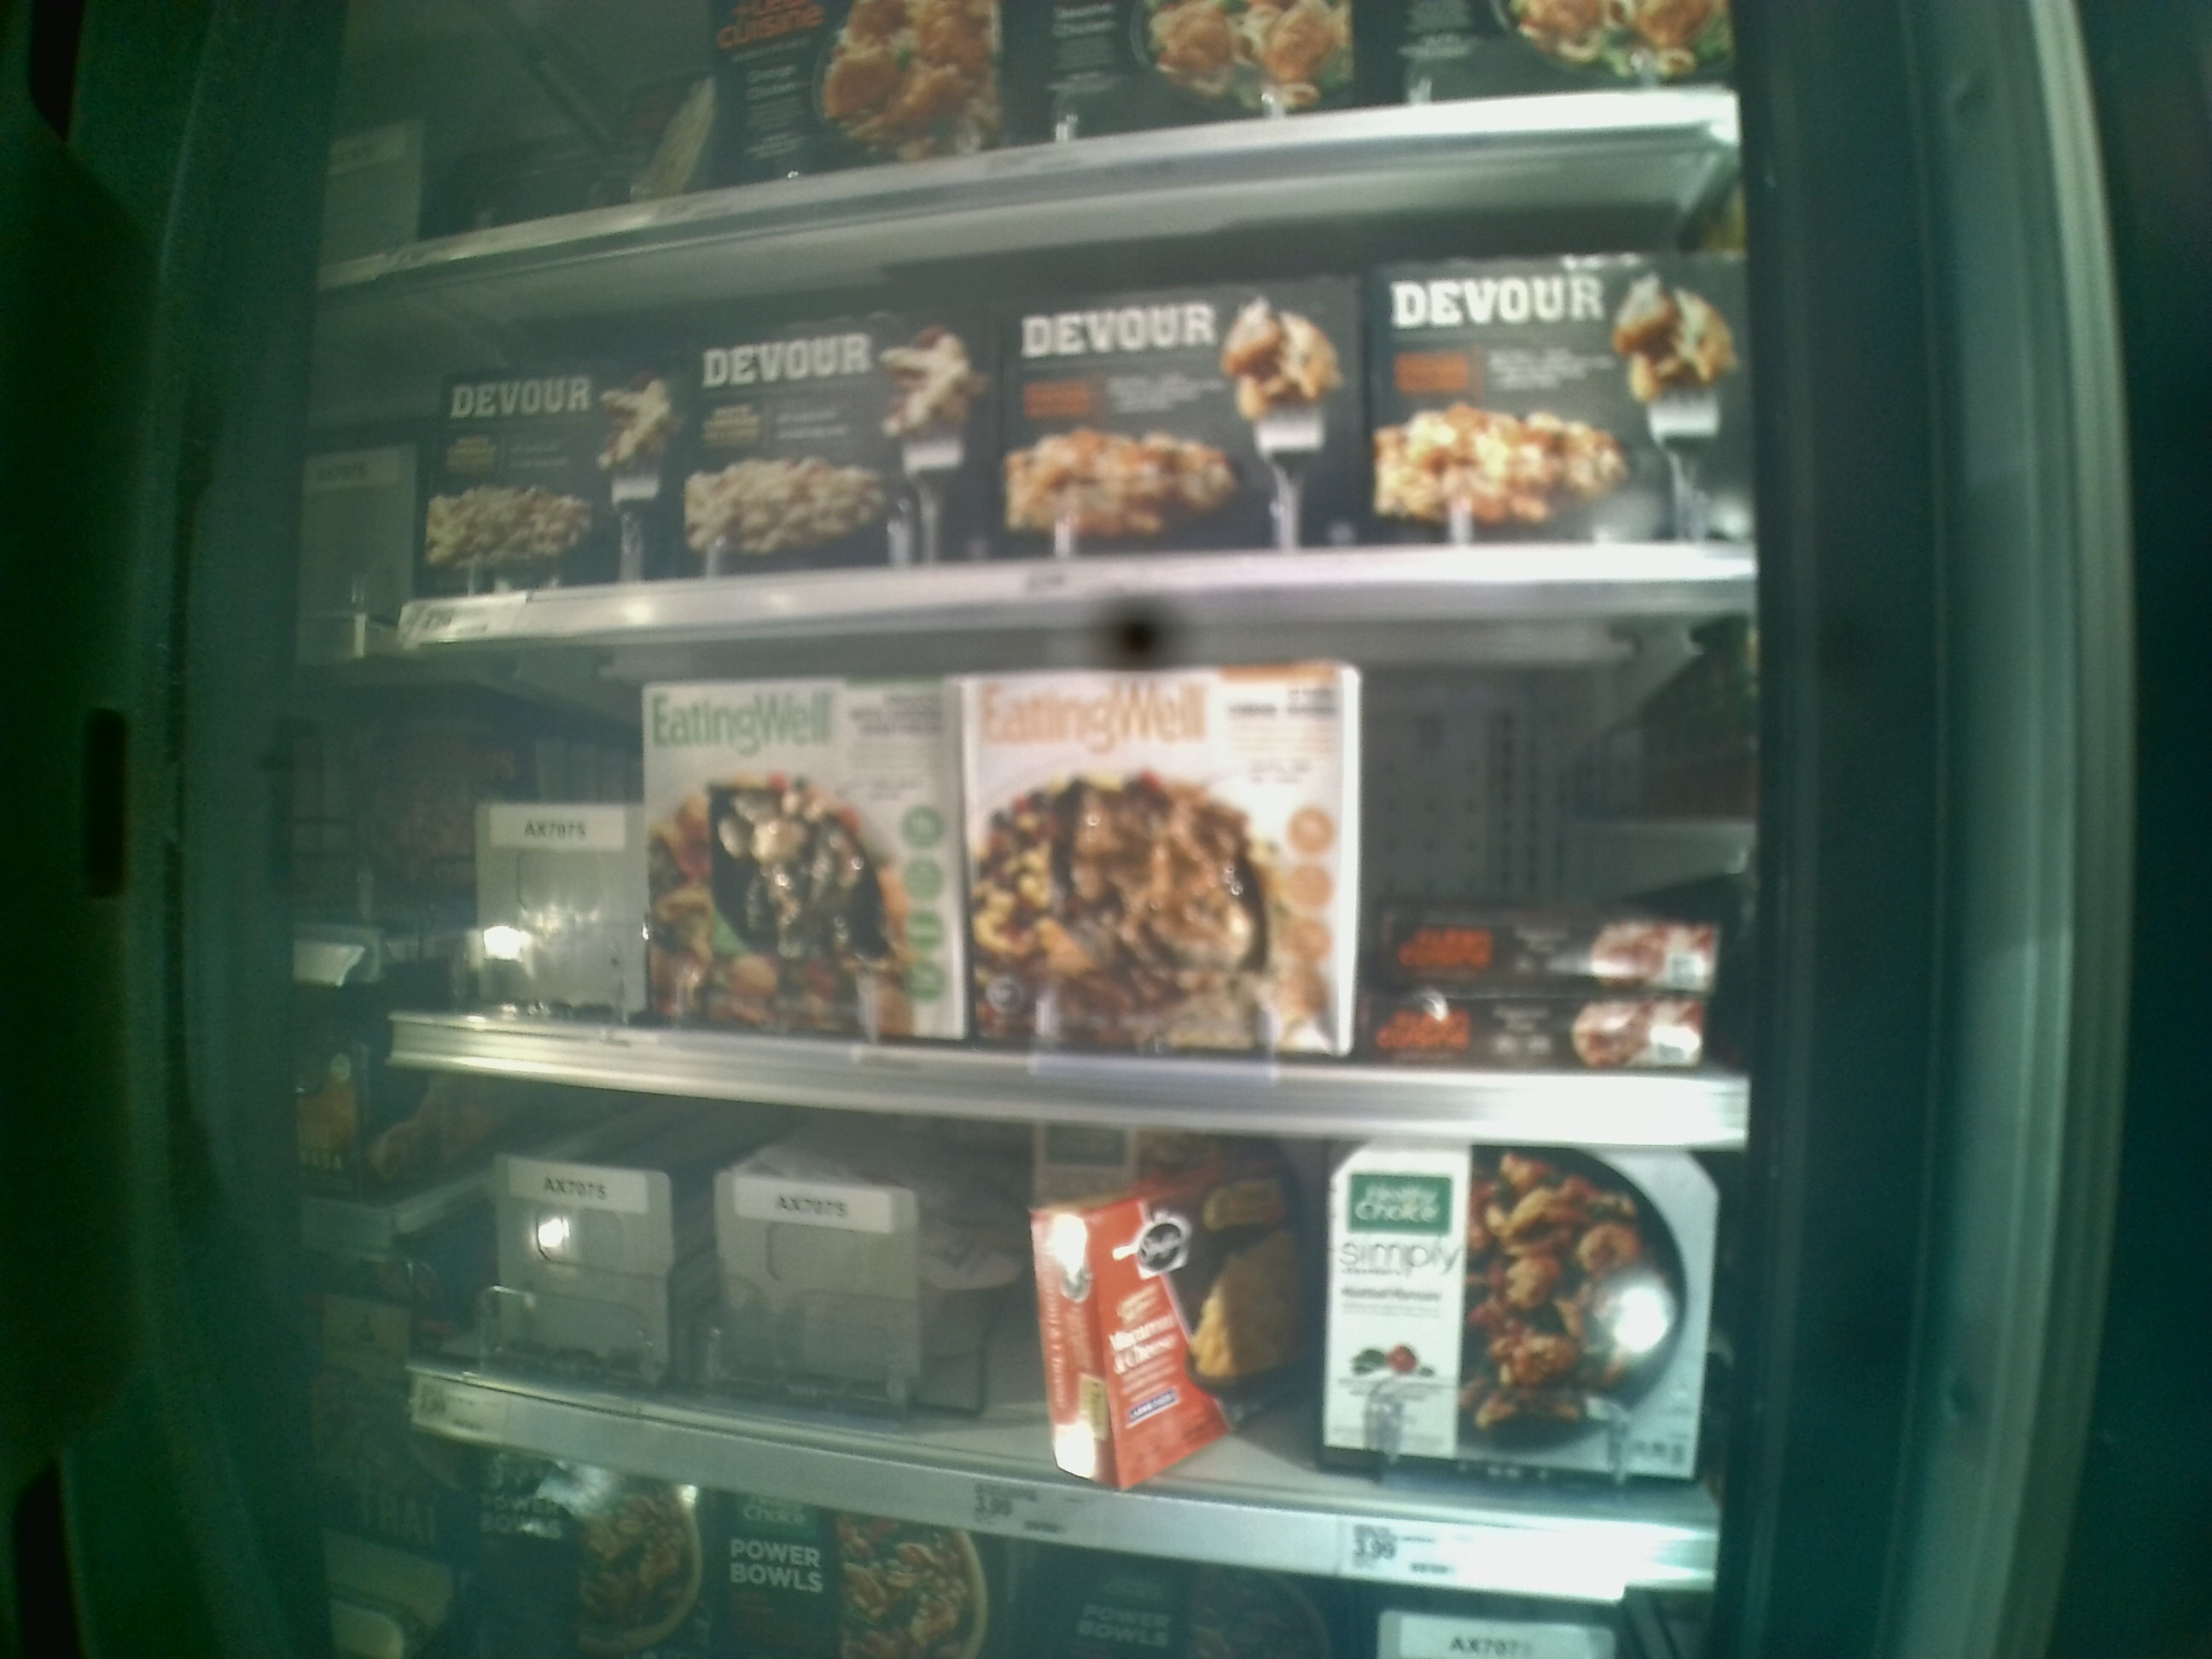shelf: (404, 587, 1761, 1150), (376, 146, 1747, 627)
